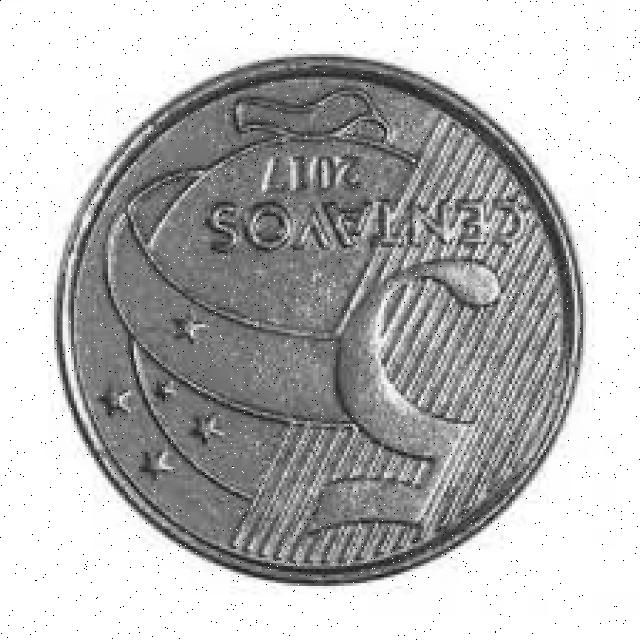5 cent: (54, 59, 574, 573)
